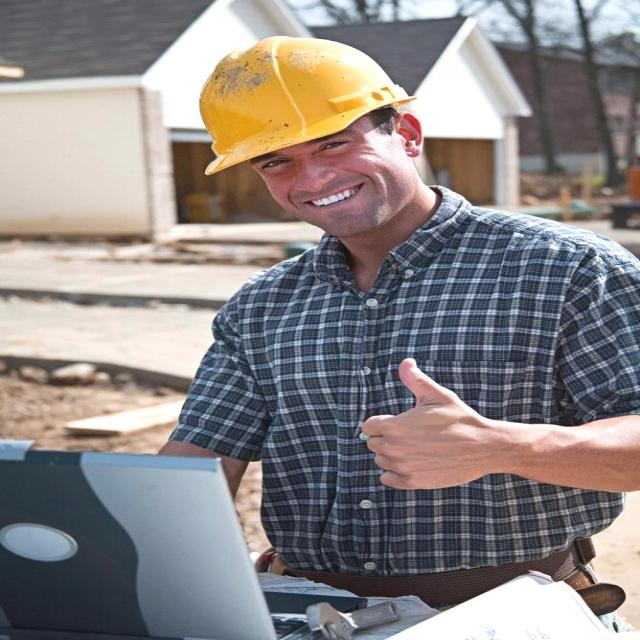face_nomask: (243, 127, 433, 230)
hand_noglove: (361, 358, 518, 494)
head_helmet: (190, 34, 418, 146)
person: (85, 5, 612, 606)
